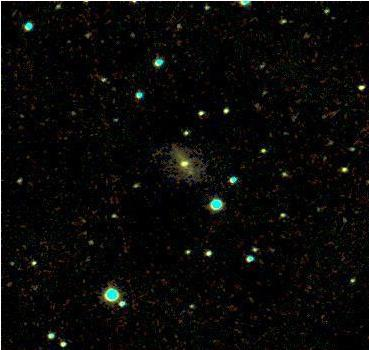star: (174, 158, 204, 188)
